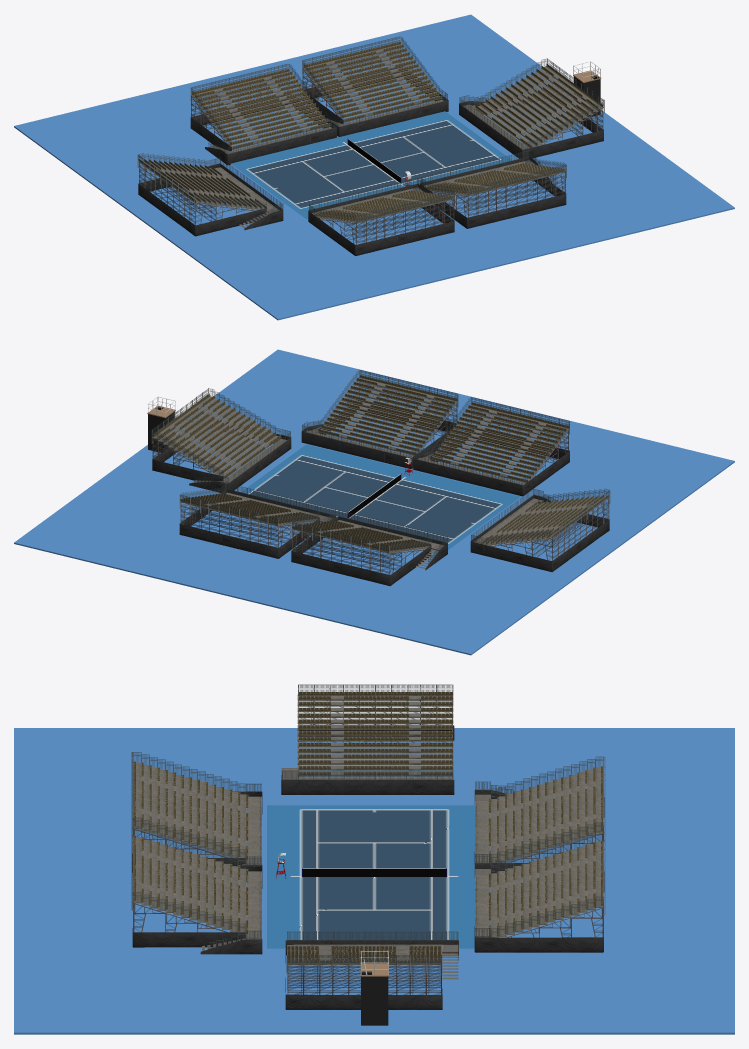
File: court-left.glb
3 renders of one model, top to bottom at view 1: azimuth 30°, elevation 25°; view 2: azimuth 150°, elevation 25°; view 3: azimuth 270°, elevation 25°, orthographic. The views are drawn at different scales.
Parts seen in each view (by area): view 1: Plane.001, Plane, Node_013_mel_grandstand_genericmedium_a_physics_!bk, Node_013_mel_grandstand_genericmedium_a_physics_!bk.001, Node_013_mel_grandstand_genericmedium_a_physics_!bk.002, Node_013_mel_grandstand_genericmedium_a_physics_!bk.005, Node_013_mel_grandstand_genericmedium_a_physics_!bk.003, Node_013_mel_grandstand_genericmedium_a_physics_!bk.004; view 2: Plane.001, Plane, Node_013_mel_grandstand_genericmedium_a_physics_!bk.003, Node_013_mel_grandstand_genericmedium_a_physics_!bk.004, Node_013_mel_grandstand_genericmedium_a_physics_!bk.002, Node_013_mel_grandstand_genericmedium_a_physics_!bk, Node_013_mel_grandstand_genericmedium_a_physics_!bk.005, Node_013_mel_grandstand_genericmedium_a_physics_!bk.001; view 3: Plane.001, Plane, Node_013_mel_grandstand_genericmedium_a_physics_!bk.005, Node_013_mel_grandstand_genericmedium_a_physics_!bk.004, Node_013_mel_grandstand_genericmedium_a_physics_!bk.001, Node_013_mel_grandstand_genericmedium_a_physics_!bk.002, Node_013_mel_grandstand_genericmedium_a_physics_!bk.003, Node_013_mel_grandstand_genericmedium_a_physics_!bk, Tower_Base_Wall_3, Tennis_Net_Strings.
Part boxes in pixels (x1,y1,x2,y2): Plane.001: [14, 14, 734, 320]; Plane: [231, 111, 511, 219]; Node_013_mel_grandstand_genericmedium_a_physics_!bk: [190, 63, 336, 165]; Node_013_mel_grandstand_genericmedium_a_physics_!bk.001: [302, 36, 448, 136]; Node_013_mel_grandstand_genericmedium_a_physics_!bk.002: [459, 58, 604, 158]; Node_013_mel_grandstand_genericmedium_a_physics_!bk.005: [137, 153, 283, 236]; Node_013_mel_grandstand_genericmedium_a_physics_!bk.003: [308, 177, 454, 255]; Node_013_mel_grandstand_genericmedium_a_physics_!bk.004: [420, 150, 566, 228]; Plane.001: [14, 349, 734, 655]; Plane: [241, 444, 520, 552]; Node_013_mel_grandstand_genericmedium_a_physics_!bk.003: [413, 397, 569, 496]; Node_013_mel_grandstand_genericmedium_a_physics_!bk.004: [301, 370, 458, 468]; Node_013_mel_grandstand_genericmedium_a_physics_!bk.002: [151, 388, 291, 492]; Node_013_mel_grandstand_genericmedium_a_physics_!bk: [291, 510, 447, 586]; Node_013_mel_grandstand_genericmedium_a_physics_!bk.005: [470, 488, 610, 572]; Node_013_mel_grandstand_genericmedium_a_physics_!bk.001: [179, 483, 335, 558]; Plane.001: [14, 728, 734, 1034]; Plane: [267, 805, 474, 948]; Node_013_mel_grandstand_genericmedium_a_physics_!bk.005: [281, 684, 454, 794]; Node_013_mel_grandstand_genericmedium_a_physics_!bk.004: [131, 826, 262, 954]; Node_013_mel_grandstand_genericmedium_a_physics_!bk.001: [474, 831, 605, 952]; Node_013_mel_grandstand_genericmedium_a_physics_!bk.002: [285, 931, 458, 1009]; Node_013_mel_grandstand_genericmedium_a_physics_!bk.003: [131, 752, 262, 872]; Node_013_mel_grandstand_genericmedium_a_physics_!bk: [474, 756, 605, 868]; Tower_Base_Wall_3: [361, 976, 388, 1025]; Tennis_Net_Strings: [302, 869, 446, 876].
Size of the model in its own units: 98.56 by 10.11 by 98.56.
Materials: 30 (19 with a texture image).
